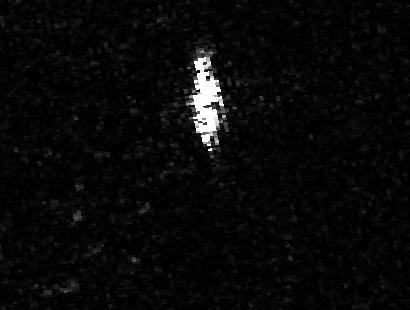ship: (176, 51, 230, 148)
